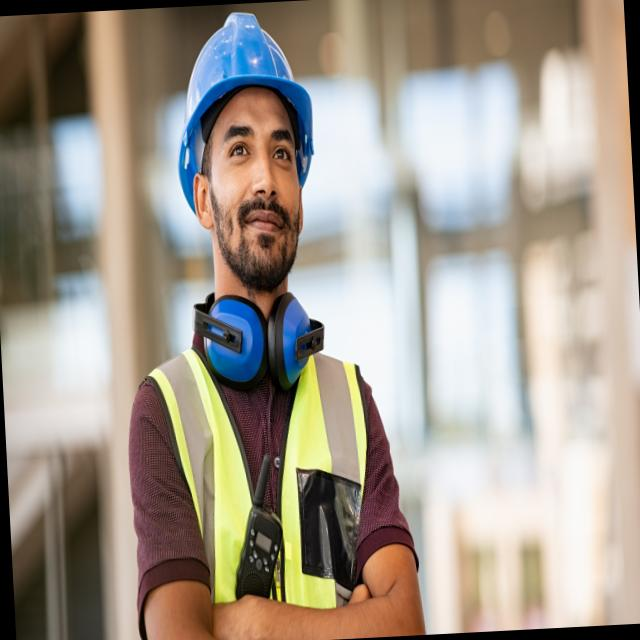helmet: (172, 8, 318, 216)
no-goggles: (204, 124, 303, 180)
vest: (144, 336, 381, 640)
